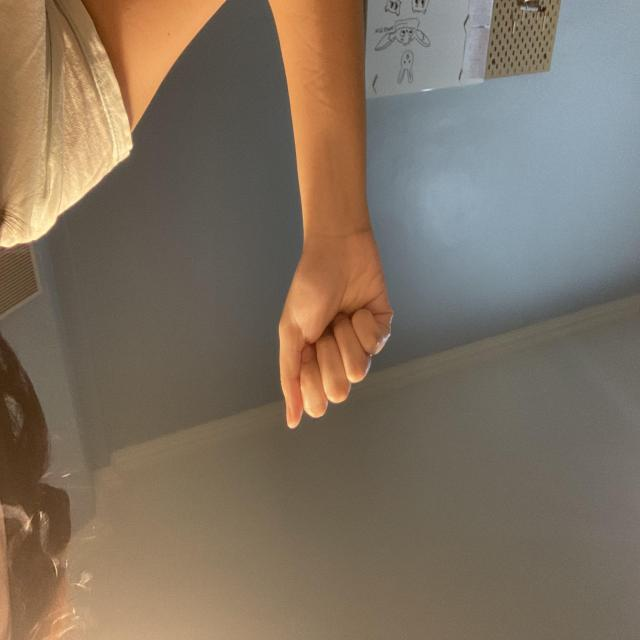A: (246, 211, 362, 406)
